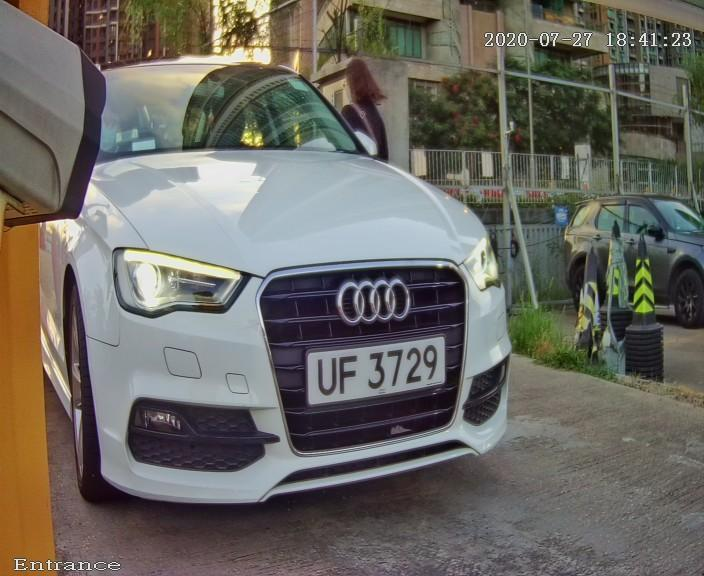privatecar: (38, 21, 582, 525)
